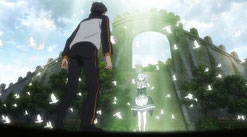rem: (130, 72, 155, 132)
